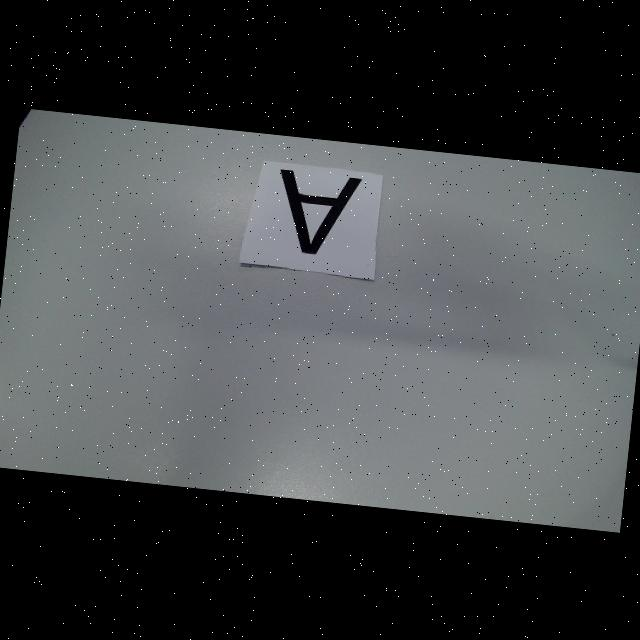FAKE: (272, 168, 362, 258)
